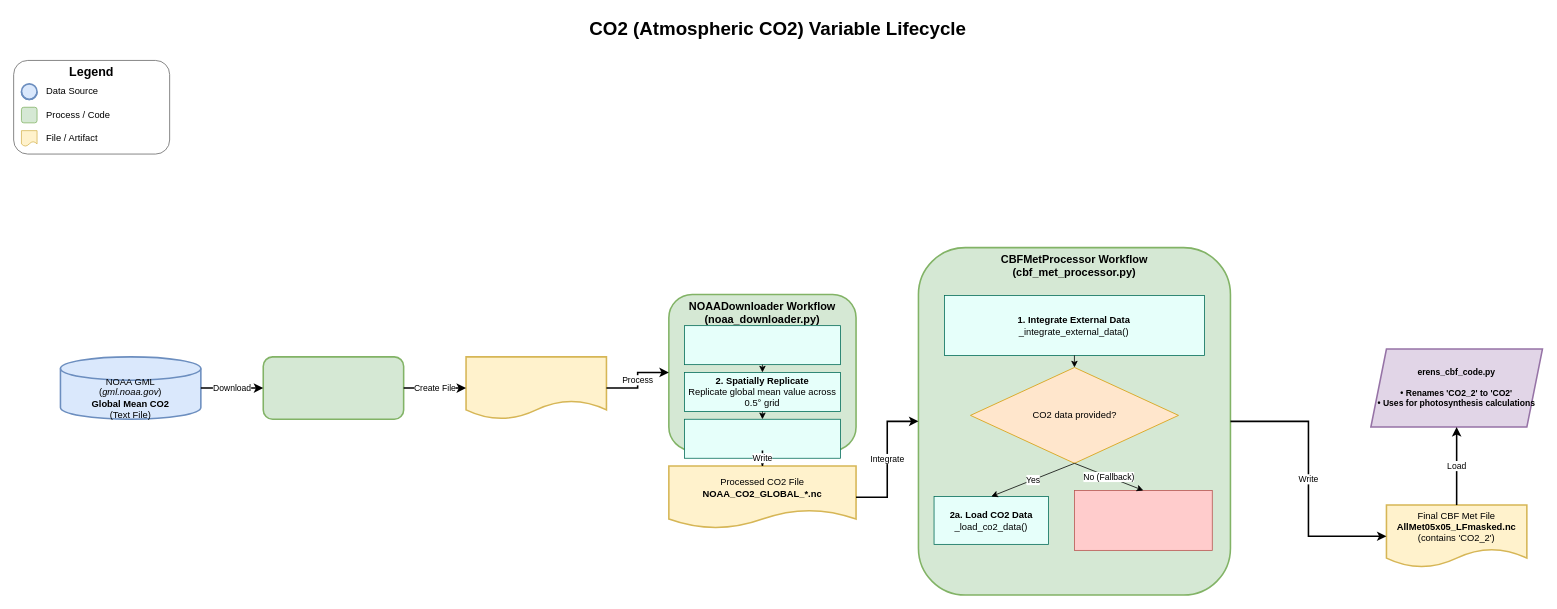
The diagram is 1557 pixels wide and 609 high, and some of its shapes have lost their labels. The shapes that lost their labels are listed below. From the top down, each one's centre as x and y in pixels, then its label:
the point at 762,345: 1. Parse Text File parse_co2_data()
the point at 333,388: noaa_downloader.py
the point at 536,388: Downloaded Text File co2_mm_gl.txt
the point at 762,438: 3. Create NetCDF create_cardamom_co2_files()
the point at 1143,520: 2b. Create Constant Array _create_constant_co2_dataset()
